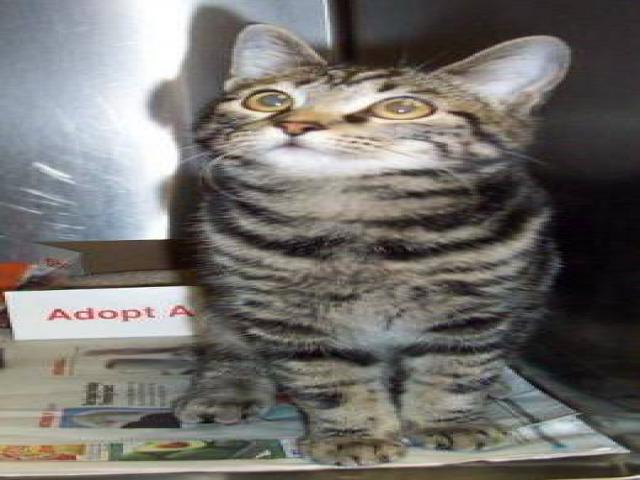cat: (177, 28, 572, 460)
